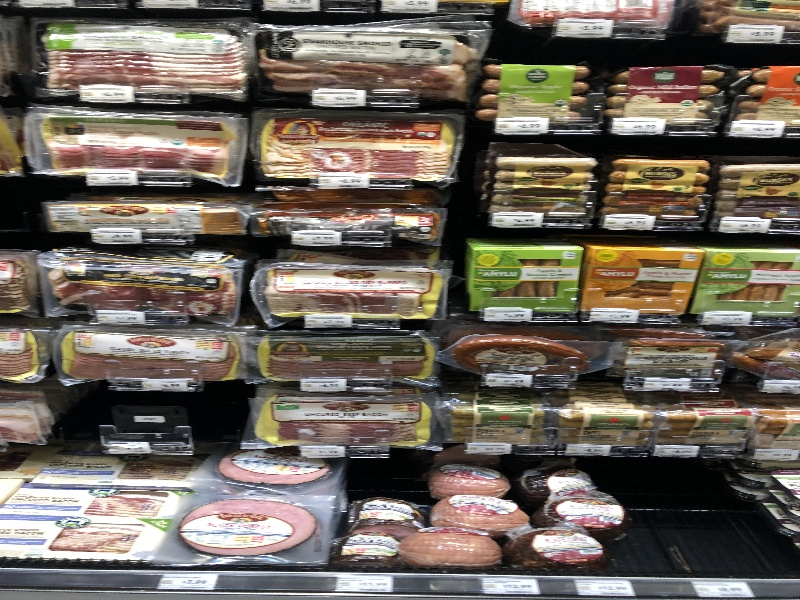void: (610, 474, 767, 574), (52, 394, 246, 459)
